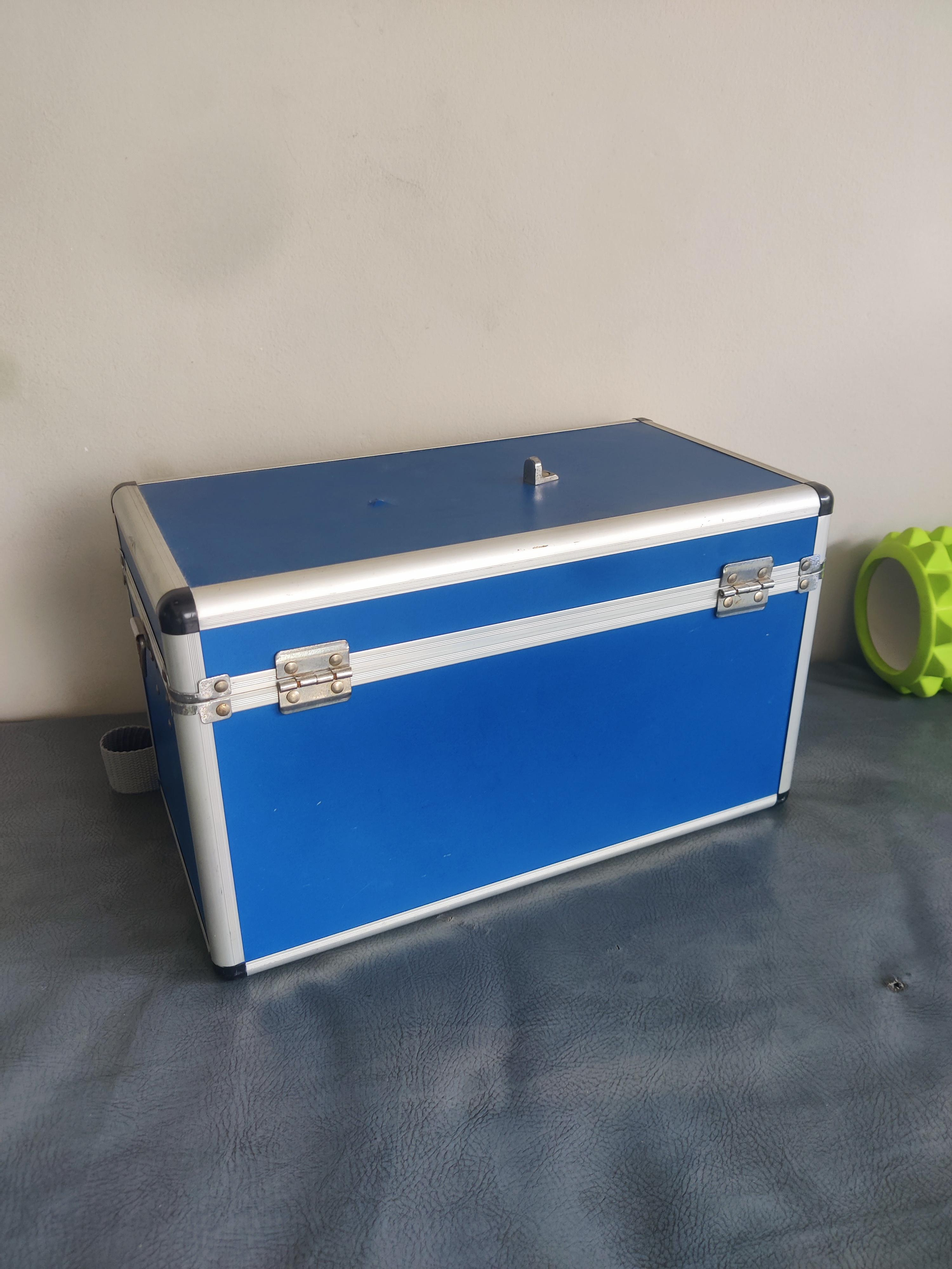FirstAidBox: (103, 382, 859, 1006)
